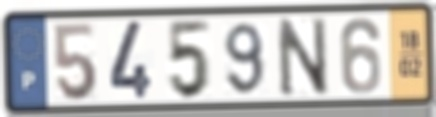4: (107, 18, 159, 103)
5: (164, 17, 215, 102), (51, 20, 100, 104)
6: (337, 15, 383, 97)
9: (221, 19, 271, 97)
N: (274, 14, 332, 100)
